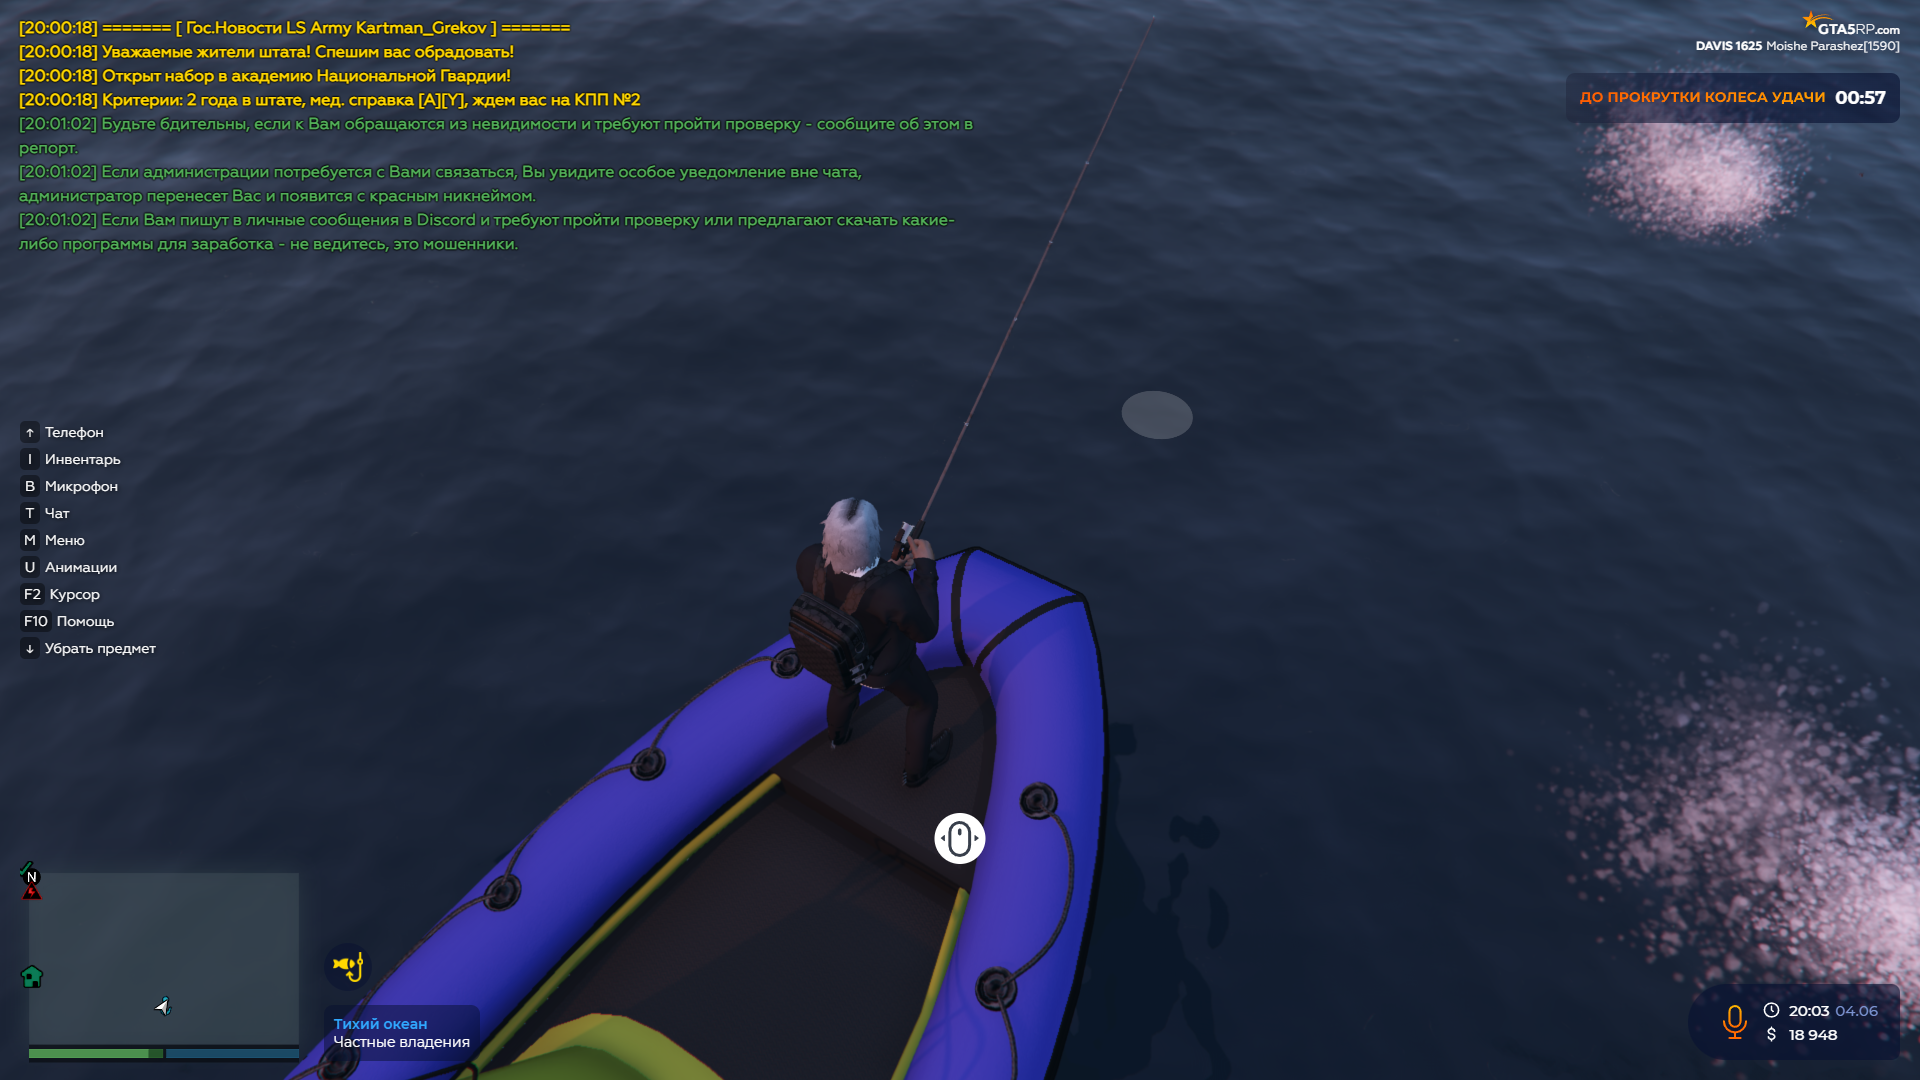circle: (1121, 390, 1195, 443)
